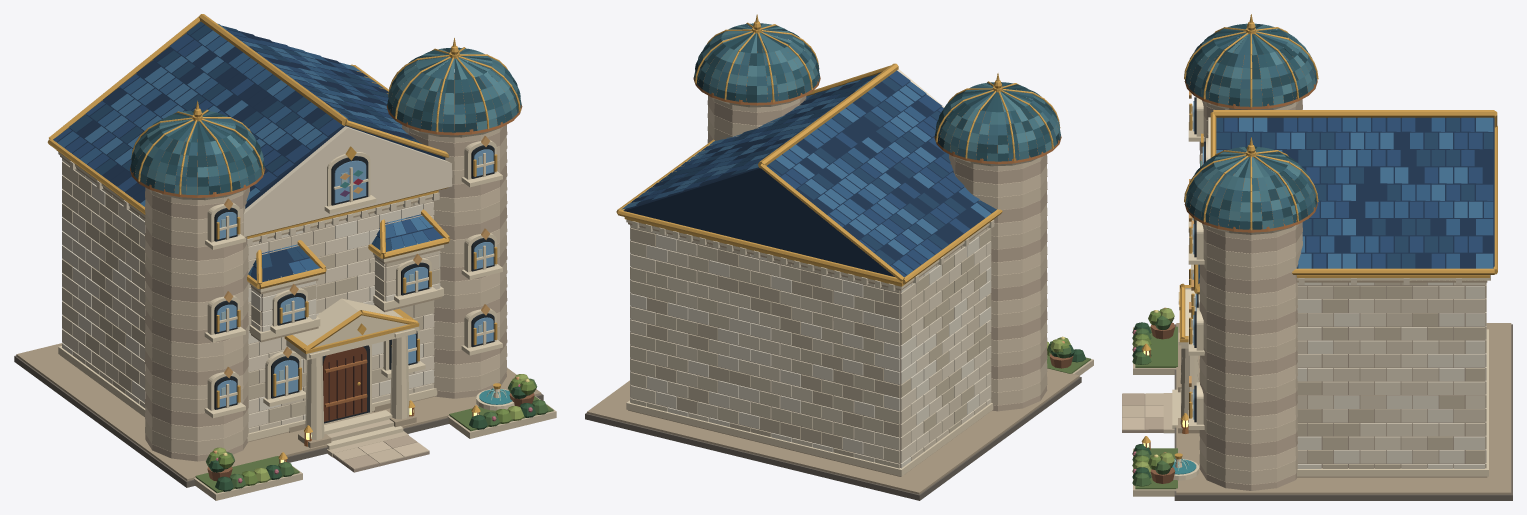
Rendered from noble-nivel-9.glb.
3 views of the same model, side by side, from view 1: azimuth 30°, elevation 25°; view 2: azimuth 150°, elevation 25°; view 3: azimuth 270°, elevation 25° (orthographic). The views are drawn at different scales.
Parts seen in each view (by area): view 1: Casa nobre 09 #e6d7ba, Casa nobre 09 #e8dcc5, Casa nobre 09 #d3c3a9, Casa nobre 09 #c1af99, Casa nobre 09 #d5a452, Casa nobre 09 #dac9af, Casa nobre 09 #20354f, Casa nobre 09 #b4a38a, Casa nobre 09 #ded1b9, Casa nobre 09 #cec1a8, Casa nobre 09 #eae1ce, Casa nobre 09 #426e90 (+19 smaller); view 2: Casa nobre 09 #20354f, Casa nobre 09 #ded1b9, Casa nobre 09 #e8dcc5, Casa nobre 09 #cec1a8, Casa nobre 09 #eae1ce, Casa nobre 09 #b4a38a, Casa nobre 09 #d5a452, Casa nobre 09 #426e90, Casa nobre 09 #c1af99, Casa nobre 09 #2d4d71, Casa nobre 09 #284763, Casa nobre 09 #d3c3a9 (+11 smaller); view 3: Casa nobre 09 #ded1b9, Casa nobre 09 #d3c3a9, Casa nobre 09 #20354f, Casa nobre 09 #b4a38a, Casa nobre 09 #c1af99, Casa nobre 09 #e8dcc5, Casa nobre 09 #d5a452, Casa nobre 09 #dac9af, Casa nobre 09 #cec1a8, Casa nobre 09 #eae1ce, Casa nobre 09 #2d4d71, Casa nobre 09 #e6d7ba (+18 smaller).
Part boxes in pixels (box(x1,y1,x2,y2)): Casa nobre 09 #e6d7ba: box(58, 127, 514, 449); Casa nobre 09 #e8dcc5: box(62, 126, 452, 427); Casa nobre 09 #d3c3a9: box(145, 126, 556, 500); Casa nobre 09 #c1af99: box(145, 124, 507, 469); Casa nobre 09 #d5a452: box(47, 14, 520, 459); Casa nobre 09 #dac9af: box(145, 136, 507, 457); Casa nobre 09 #20354f: box(57, 24, 445, 281); Casa nobre 09 #b4a38a: box(16, 155, 541, 481); Casa nobre 09 #ded1b9: box(62, 161, 440, 433); Casa nobre 09 #cec1a8: box(62, 173, 439, 422); Casa nobre 09 #eae1ce: box(62, 158, 440, 419); Casa nobre 09 #426e90: box(84, 23, 432, 275); Casa nobre 09 #20354f: box(623, 76, 991, 276); Casa nobre 09 #ded1b9: box(630, 220, 994, 468); Casa nobre 09 #e8dcc5: box(630, 69, 991, 462); Casa nobre 09 #cec1a8: box(630, 228, 991, 457); Casa nobre 09 #eae1ce: box(630, 227, 991, 468); Casa nobre 09 #b4a38a: box(587, 222, 1079, 494); Casa nobre 09 #d5a452: box(616, 14, 1060, 286); Casa nobre 09 #426e90: box(621, 80, 991, 254); Casa nobre 09 #c1af99: box(707, 95, 1047, 411); Casa nobre 09 #2d4d71: box(641, 70, 969, 277); Casa nobre 09 #284763: box(655, 72, 996, 265); Casa nobre 09 #d3c3a9: box(707, 97, 1093, 405); Casa nobre 09 #ded1b9: box(1297, 275, 1490, 468); Casa nobre 09 #d3c3a9: box(1122, 101, 1302, 496); Casa nobre 09 #20354f: box(1216, 117, 1494, 268); Casa nobre 09 #b4a38a: box(1176, 280, 1511, 494); Casa nobre 09 #c1af99: box(1122, 99, 1302, 490); Casa nobre 09 #e8dcc5: box(1208, 117, 1486, 463); Casa nobre 09 #d5a452: box(1141, 14, 1497, 459); Casa nobre 09 #dac9af: box(1122, 116, 1302, 471); Casa nobre 09 #cec1a8: box(1297, 282, 1486, 468); Casa nobre 09 #eae1ce: box(1297, 282, 1486, 468); Casa nobre 09 #2d4d71: box(1198, 117, 1493, 283); Casa nobre 09 #e6d7ba: box(1172, 97, 1488, 480).
Bounding box in the file's own units: 9.98 × 8.81 × 9.16.
